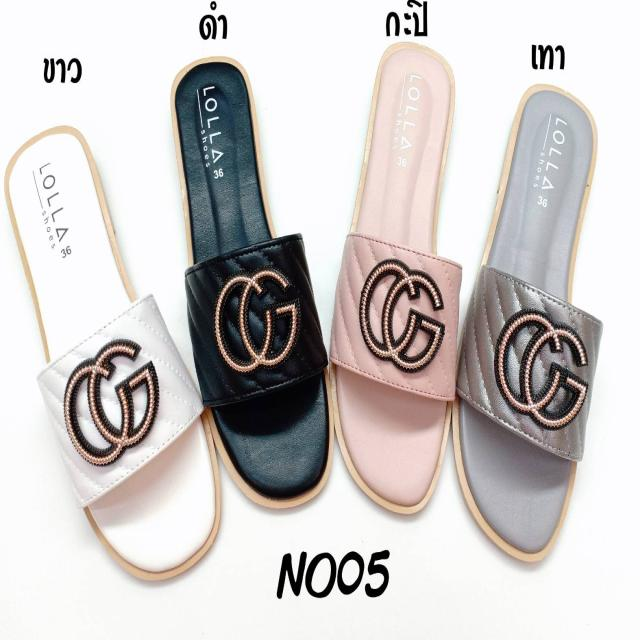black: (174, 57, 327, 505)
grey: (458, 85, 598, 553)
kapi: (341, 36, 449, 503)
white: (10, 131, 216, 571)
